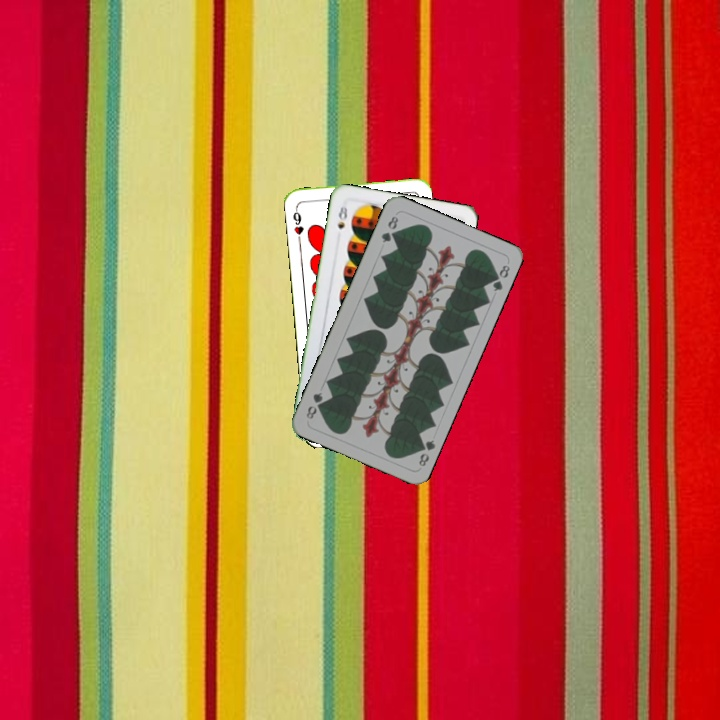G8: (413, 436, 438, 469), (377, 212, 401, 245)
H9: (289, 203, 306, 237)
S8: (334, 202, 350, 231)
